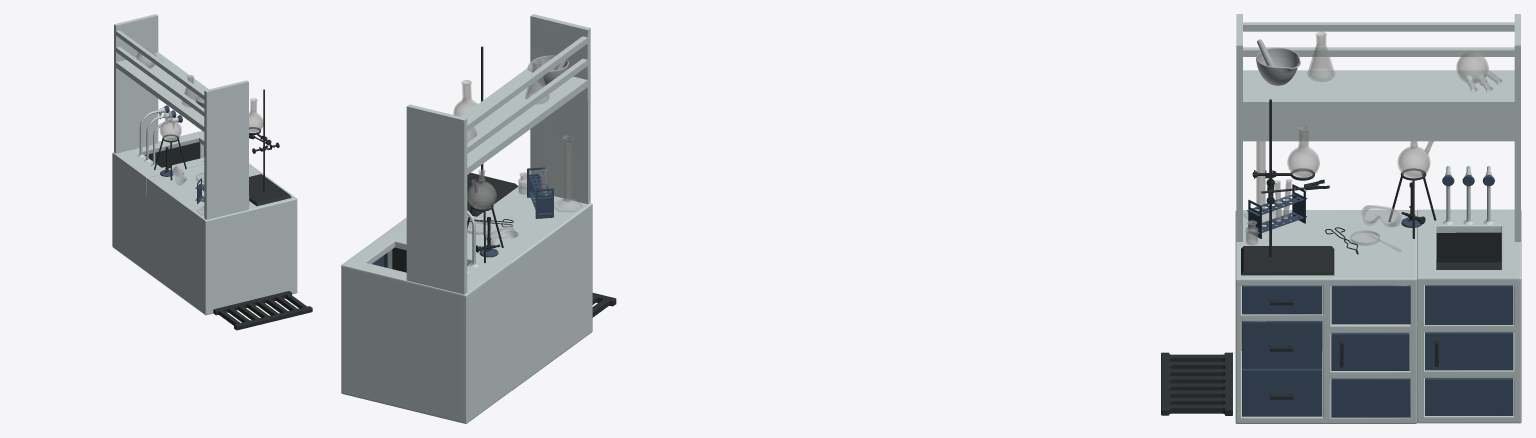
The picture shows the model from 3 angles, left to right: view 1: azimuth 30°, elevation 25°; view 2: azimuth 150°, elevation 25°; view 3: azimuth 270°, elevation 25°; orthographic projection. The views are drawn at different scales.
Parts seen in each view (by area): view 1: Cabinet, back_board, faucet, drain_roster, base, dual_neck2, boiling_flask13; view 2: faucet, back_board, Cabinet, base, test_tube_rack, cilinder, dual_neck2; view 3: Cabinet, back_board, faucet, drain_roster, base, test_tube_rack, mortar_pestle, tri_neck2, boiling_flask13, dual_neck2, erlenmeyer2, cilinder (+2 smaller).
Boxes of the visible parts, bbox=[...] form: Cabinet: bbox=[146, 163, 297, 315]; back_board: bbox=[114, 14, 248, 219]; faucet: bbox=[112, 105, 204, 271]; drain_roster: bbox=[213, 291, 312, 330]; base: bbox=[249, 174, 291, 206]; dual_neck2: bbox=[160, 110, 181, 140]; boiling_flask13: bbox=[249, 98, 262, 132]; faucet: bbox=[341, 210, 512, 423]; back_board: bbox=[406, 14, 590, 294]; Cabinet: bbox=[387, 185, 592, 389]; base: bbox=[467, 173, 517, 216]; test_tube_rack: bbox=[527, 167, 553, 218]; cilinder: bbox=[554, 135, 582, 212]; dual_neck2: bbox=[467, 169, 496, 209]; Cabinet: bbox=[1235, 210, 1417, 423]; back_board: bbox=[1236, 14, 1520, 241]; faucet: bbox=[1417, 166, 1521, 423]; drain_roster: bbox=[1161, 352, 1232, 415]; base: bbox=[1241, 246, 1334, 275]; test_tube_rack: bbox=[1247, 184, 1307, 238]; mortar_pestle: bbox=[1256, 39, 1300, 85]; tri_neck2: bbox=[1456, 52, 1501, 92]; boiling_flask13: bbox=[1287, 125, 1319, 177]; dual_neck2: bbox=[1397, 141, 1433, 177]; erlenmeyer2: bbox=[1307, 32, 1334, 81]; cilinder: bbox=[1244, 141, 1276, 222].
Size of the model in its own units: 3.15 by 1.94 by 2.41.
